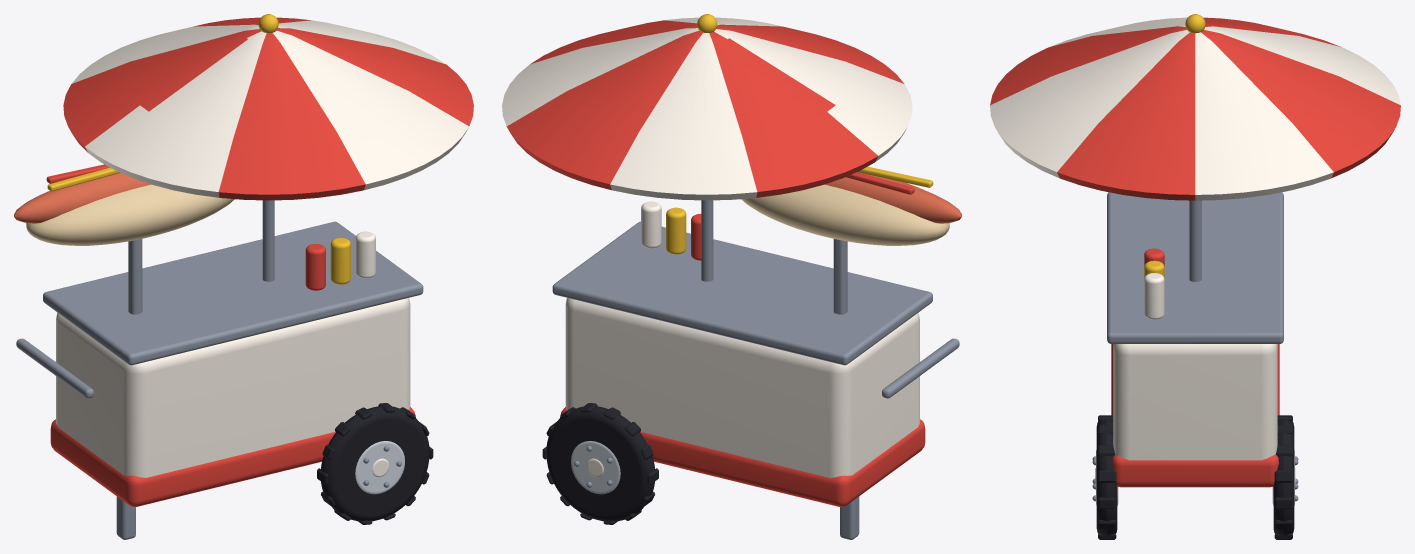
The model's file is hotdog_cart.glb.
3 views of the same model, side by side, from view 1: azimuth 30°, elevation 25°; view 2: azimuth 150°, elevation 25°; view 3: azimuth 270°, elevation 25° (orthographic).
Parts seen in each view (by area): view 1: hotdog_cart; view 2: hotdog_cart; view 3: hotdog_cart.
Part boxes in pixels (x1=…): hotdog_cart: x1=14, y1=14, x2=473, y2=539; hotdog_cart: x1=502, y1=14, x2=961, y2=539; hotdog_cart: x1=990, y1=14, x2=1400, y2=539.
Bounding box in the file's own units: 2.43 × 2.62 × 2.
1 material, 1 textured.
